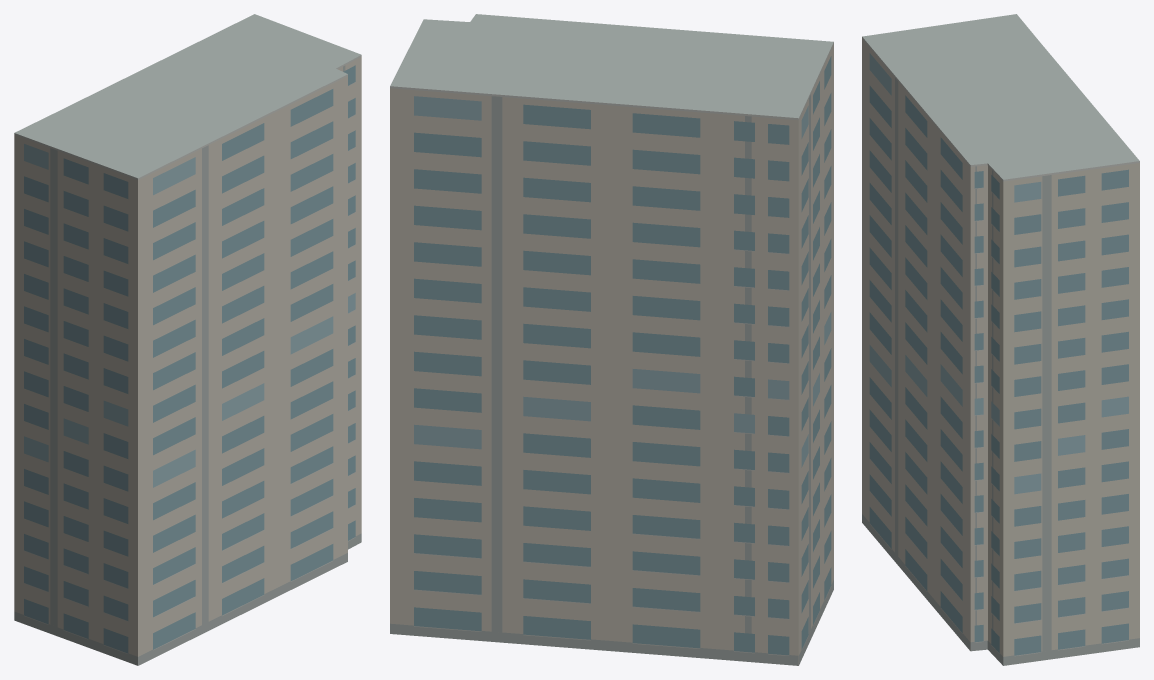
Rendered from survey-upis-32762916.glb.
3 renders of one model, left to right at view 1: azimuth 30°, elevation 25°; view 2: azimuth 150°, elevation 25°; view 3: azimuth 270°, elevation 25°, orthographic. The views are drawn at different scales.
Visible parts, largest first — view 1: survey-upis-32762916.tmp; view 2: survey-upis-32762916.tmp; view 3: survey-upis-32762916.tmp.
Boxes of the visible parts, left/top/right/bottom form: survey-upis-32762916.tmp: left=14, top=14, right=361, bottom=665; survey-upis-32762916.tmp: left=390, top=14, right=833, bottom=665; survey-upis-32762916.tmp: left=862, top=14, right=1139, bottom=665.
Size of the model in its own units: 48.28 by 66 by 34.19.
